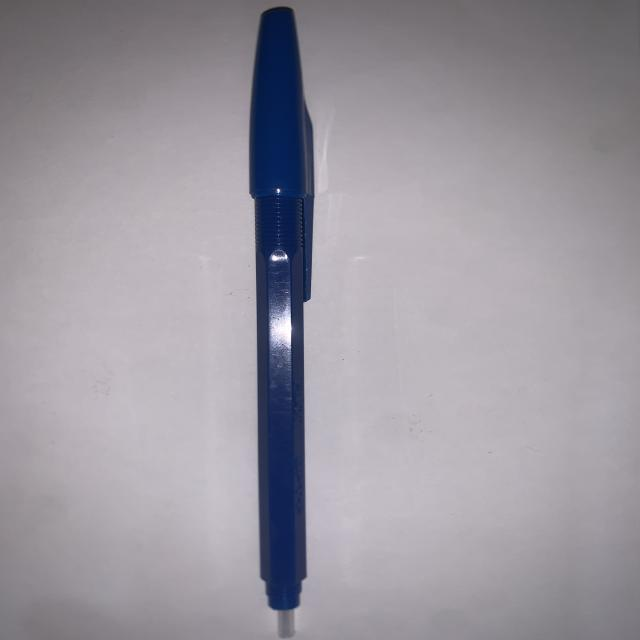Pulpen: (222, 7, 337, 640)
